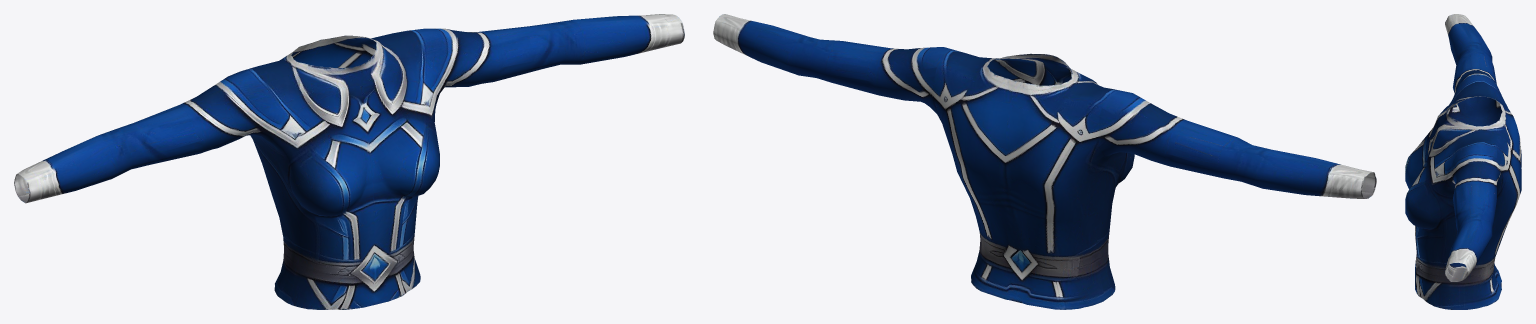
File: BlueRangedUpperbody.glb
3 renders of one model, left to right at view 1: azimuth 30°, elevation 25°; view 2: azimuth 150°, elevation 25°; view 3: azimuth 270°, elevation 25°, orthographic. The views are drawn at different scales.
Parts seen in each view (by area): view 1: Mesh_0; view 2: Mesh_0; view 3: Mesh_0.
Boxes of the visible parts, x1,y1,x2,y2 form: Mesh_0: [14, 14, 684, 309]; Mesh_0: [713, 14, 1376, 309]; Mesh_0: [1405, 14, 1521, 309].
Bounding box in the file's own units: 2 × 0.6513 × 0.3958.
Materials: 1 (1 with a texture image).
